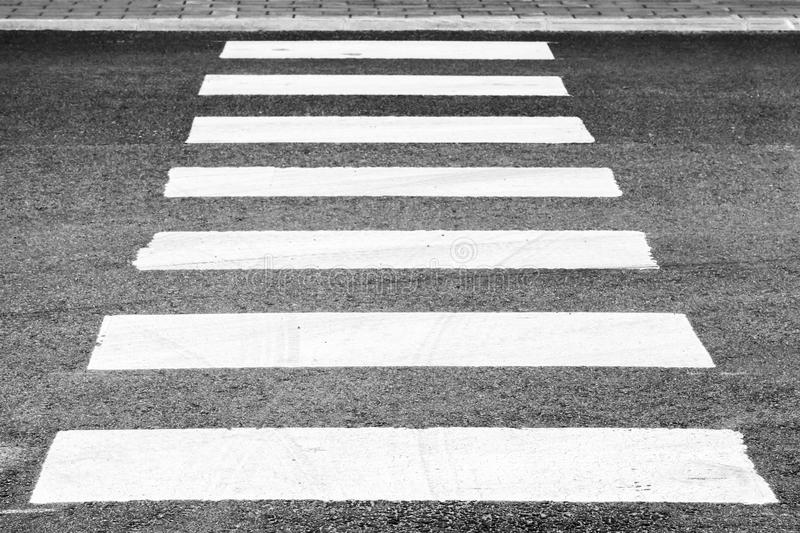pedestrian lane: (30, 36, 781, 516)
